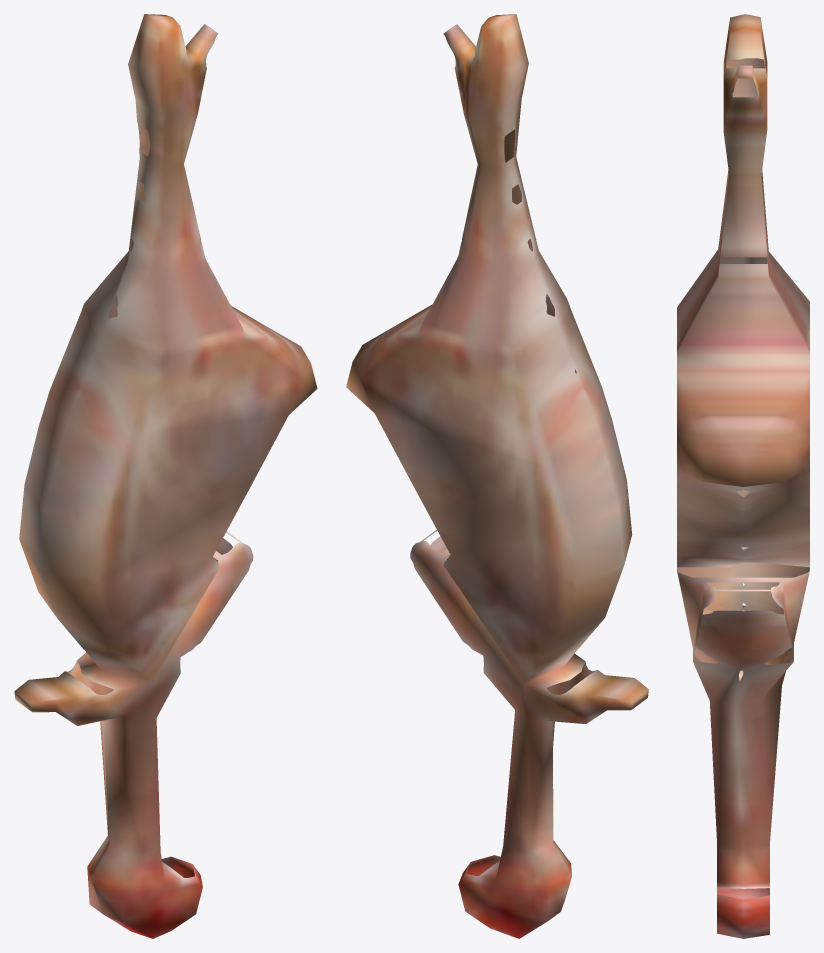
Rendered from dead_chicken_3.FBX.
3 views of the same model, side by side, from view 1: azimuth 30°, elevation 25°; view 2: azimuth 150°, elevation 25°; view 3: azimuth 270°, elevation 25° (orthographic).
Parts seen in each view (by area): view 1: dead_chicken_3; view 2: dead_chicken_3; view 3: dead_chicken_3.
Boxes of the visible parts, left/top/right/bottom form: dead_chicken_3: left=14, top=14, right=317, bottom=938; dead_chicken_3: left=346, top=14, right=648, bottom=938; dead_chicken_3: left=677, top=14, right=809, bottom=938.
Size of the model in its own units: 23.23 by 70.89 by 9.29.
